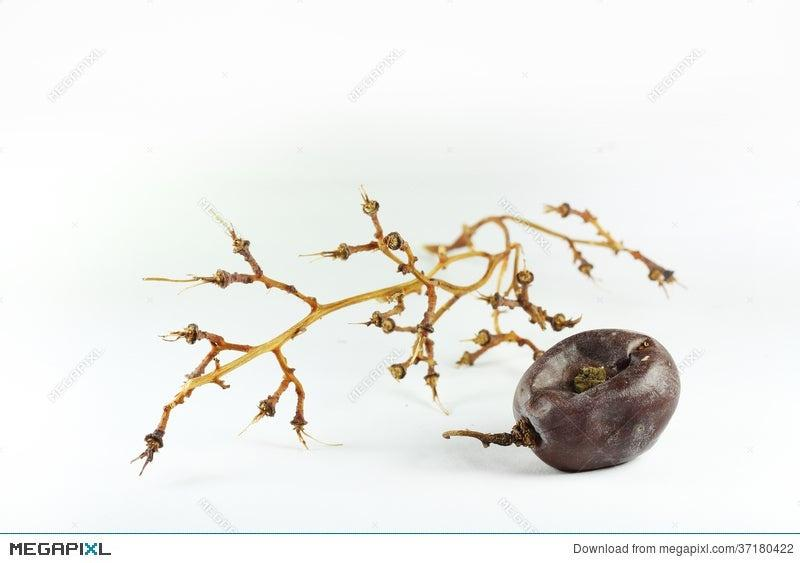Grape Rotten: (130, 184, 686, 476), (442, 327, 682, 473)
